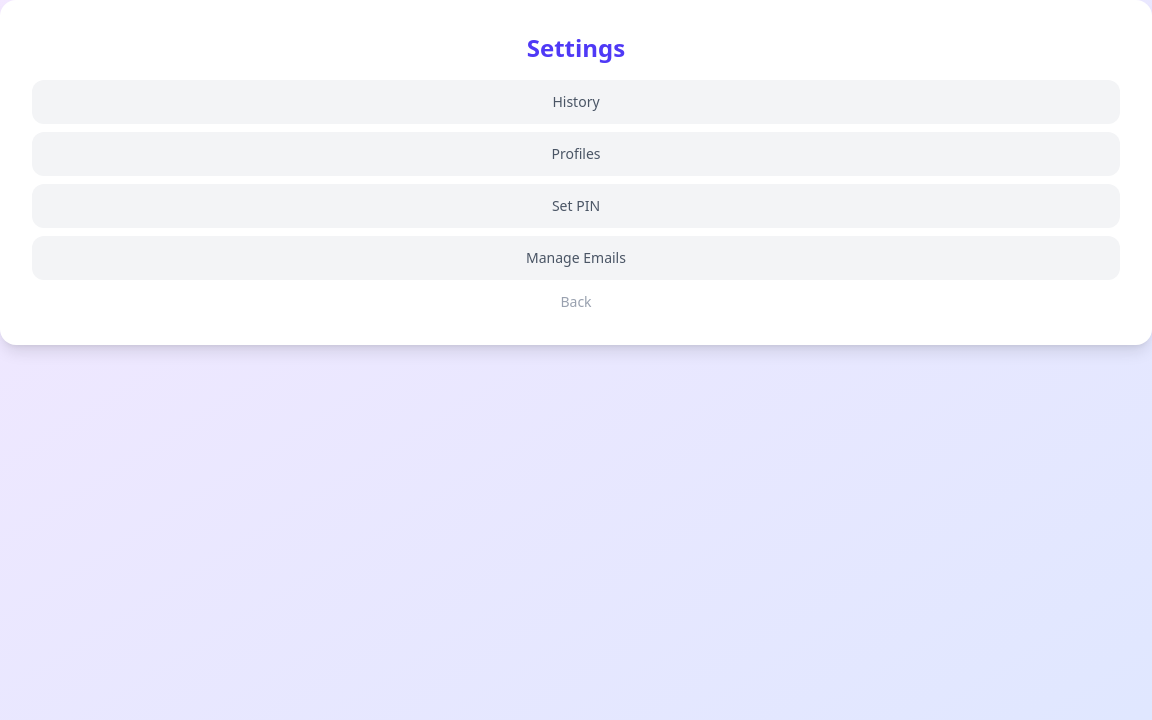
Test: AdminPanel › shows history from settings-hub without PIN
Click the button "History".
click(576, 102)  # box x1=32 y1=80 x2=1120 y2=124
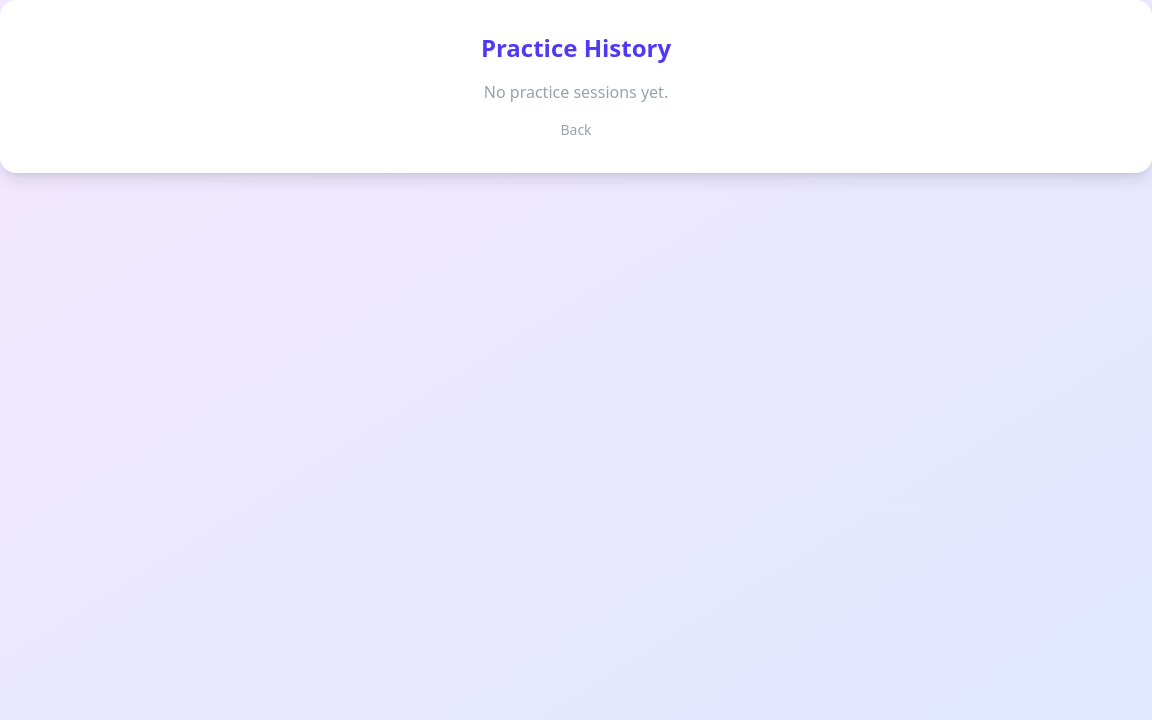
expect the heading "Practice History" is shown: met, box x1=481 y1=31 x2=671 y2=64
